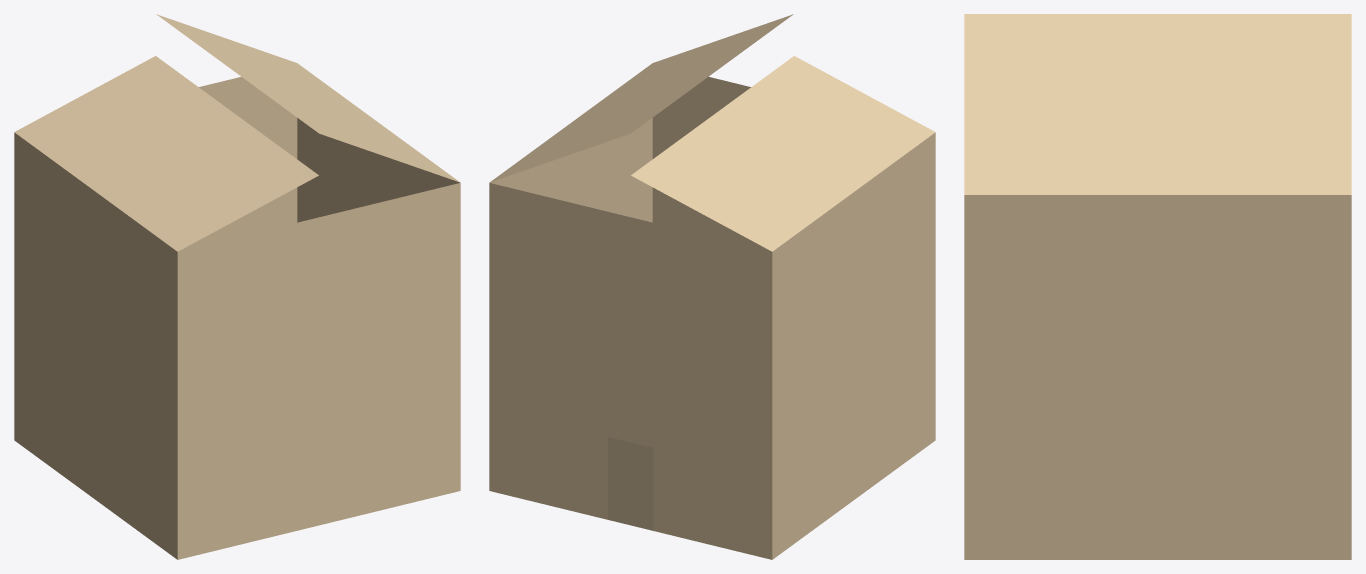
File: crate.glb
3 renders of one model, left to right at view 1: azimuth 30°, elevation 25°; view 2: azimuth 150°, elevation 25°; view 3: azimuth 270°, elevation 25°, orthographic. The views are drawn at different scales.
Parts seen in each view (by area): view 1: cardboardBoxClosed; view 2: cardboardBoxClosed; view 3: cardboardBoxClosed.
Boxes of the visible parts, bbox=[...] form: cardboardBoxClosed: bbox=[14, 14, 460, 559]; cardboardBoxClosed: bbox=[489, 14, 935, 559]; cardboardBoxClosed: bbox=[964, 14, 1351, 559].
Size of the model in its own units: 2.12 by 2.81 by 2.13.
